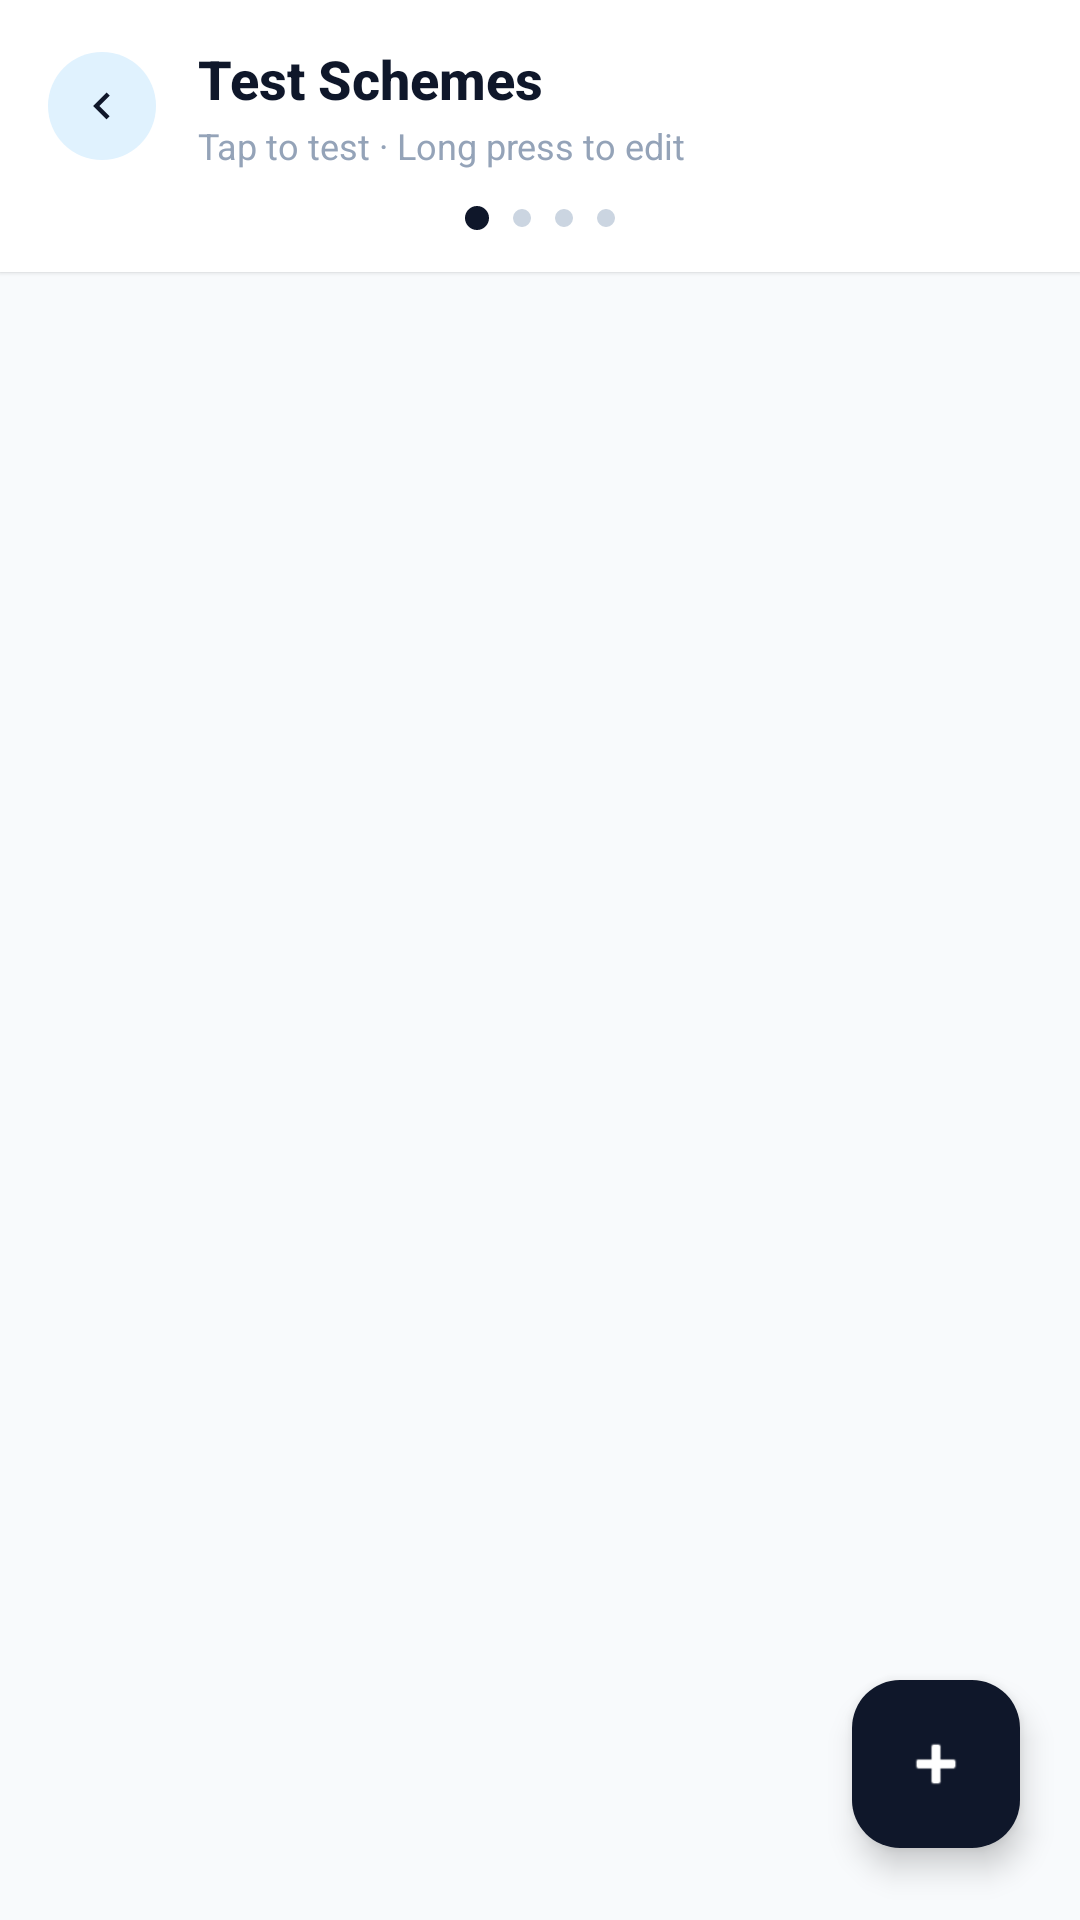

Named icons in this screenshot (1080px x 1920px) and their bounding boxes, bbox(x1, y1, x2, y2):
Add scheme: bbox(852, 1680, 1020, 1848)
back: bbox(48, 52, 156, 160)
